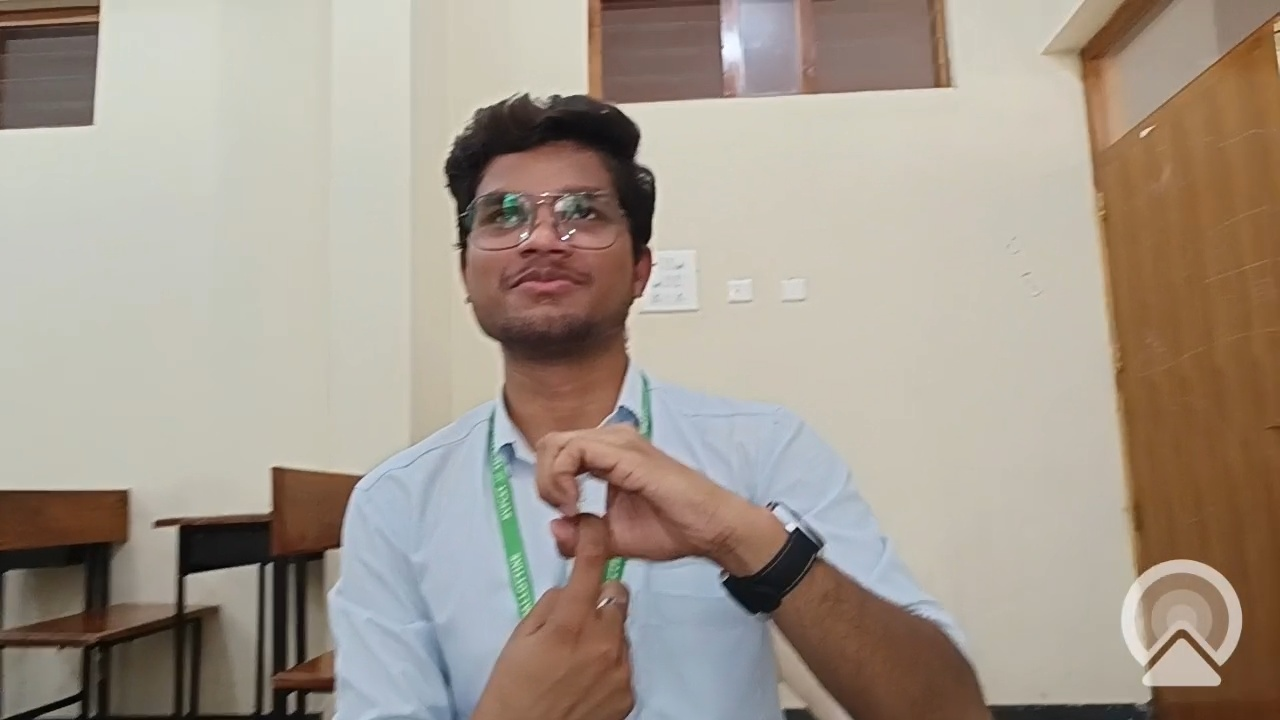Q: (441, 396, 758, 720)
